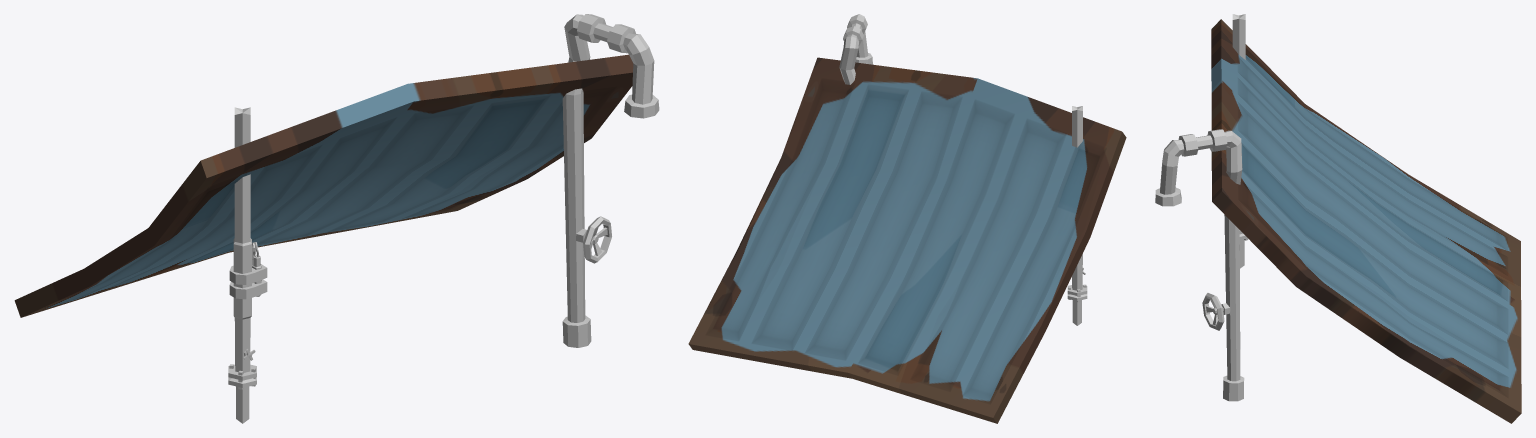
Rendered from SM_Bld_Rooftop_01.fbx.
3 views of the same model, side by side, from view 1: azimuth 30°, elevation 25°; view 2: azimuth 150°, elevation 25°; view 3: azimuth 270°, elevation 25° (orthographic). The views are drawn at different scales.
Visible parts, largest first — view 1: SM_Bld_Rooftop_01; view 2: SM_Bld_Rooftop_01; view 3: SM_Bld_Rooftop_01.
Part boxes in pixels (<box>): SM_Bld_Rooftop_01: <box>14,14,659,423</box>; SM_Bld_Rooftop_01: <box>688,14,1126,423</box>; SM_Bld_Rooftop_01: <box>1155,14,1521,423</box>.
Bounding box in the file's own units: 487 × 362 × 437.
